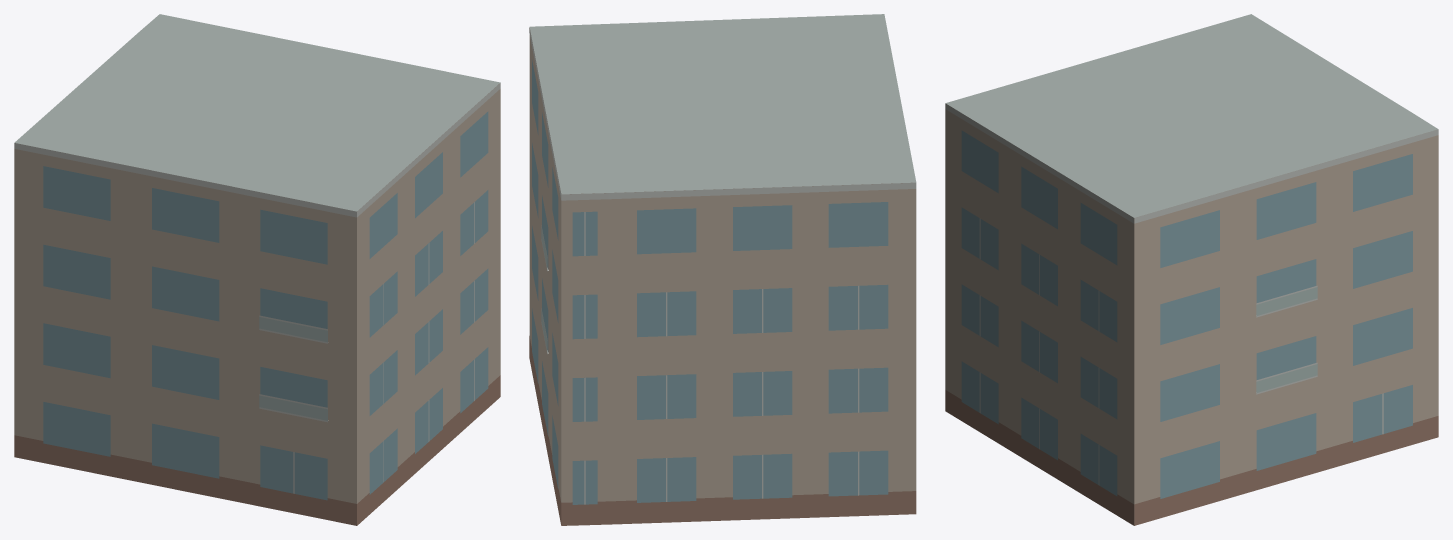
File: survey-upis-32981207.glb
3 renders of one model, left to right at view 1: azimuth 30°, elevation 25°; view 2: azimuth 150°, elevation 25°; view 3: azimuth 270°, elevation 25°, orthographic. The views are drawn at different scales.
Parts seen in each view (by area): view 1: survey-upis-32981207.tmp; view 2: survey-upis-32981207.tmp; view 3: survey-upis-32981207.tmp.
Part boxes in pixels (box(x1,y1,x2,y2)): survey-upis-32981207.tmp: box(14, 14, 500, 525); survey-upis-32981207.tmp: box(529, 14, 916, 525); survey-upis-32981207.tmp: box(945, 14, 1438, 525).
Size of the model in its own units: 18.33 by 12.9 by 18.74.
